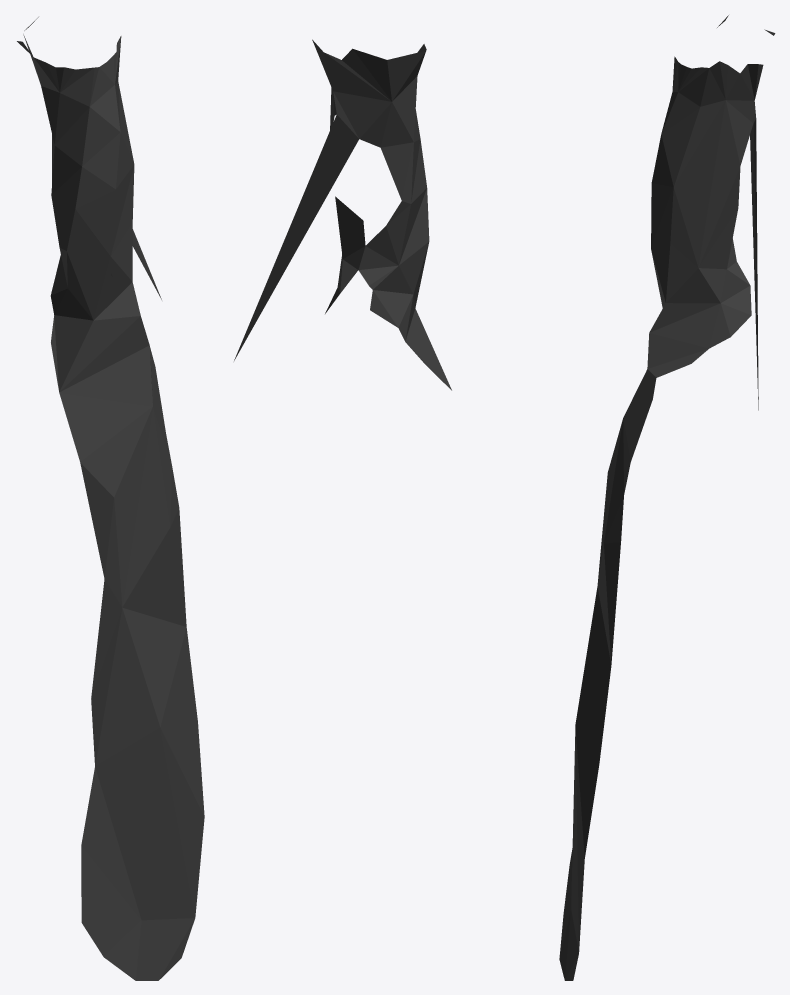
File: A_iliac_deep_circumflex_R_A_iliac_deep_circumflex_R.glb
3 views of the same model, side by side, from view 1: azimuth 30°, elevation 25°; view 2: azimuth 150°, elevation 25°; view 3: azimuth 270°, elevation 25° (orthographic). The views are drawn at different scales.
Parts seen in each view (by area): view 1: A_iliac_deep_circumflex_R_A_iliac_deep_circumflex_R; view 2: A_iliac_deep_circumflex_R_A_iliac_deep_circumflex_R; view 3: A_iliac_deep_circumflex_R_A_iliac_deep_circumflex_R.
Boxes of the visible parts, <box> form: A_iliac_deep_circumflex_R_A_iliac_deep_circumflex_R: <box>17,17,204,980</box>; A_iliac_deep_circumflex_R_A_iliac_deep_circumflex_R: <box>234,39,451,390</box>; A_iliac_deep_circumflex_R_A_iliac_deep_circumflex_R: <box>559,15,775,980</box>.
Size of the model in its own units: 0.00327 by 0.0163 by 0.00341.
Materials: 1 (1 with a texture image).
